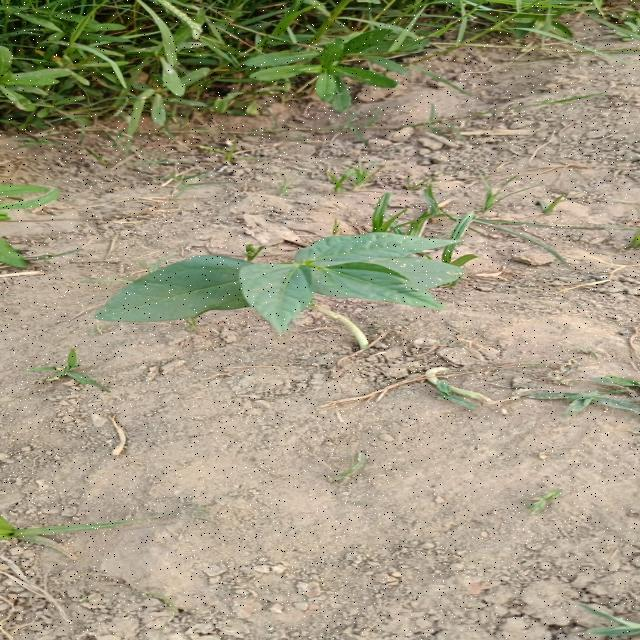plant: (96, 232, 463, 348)
